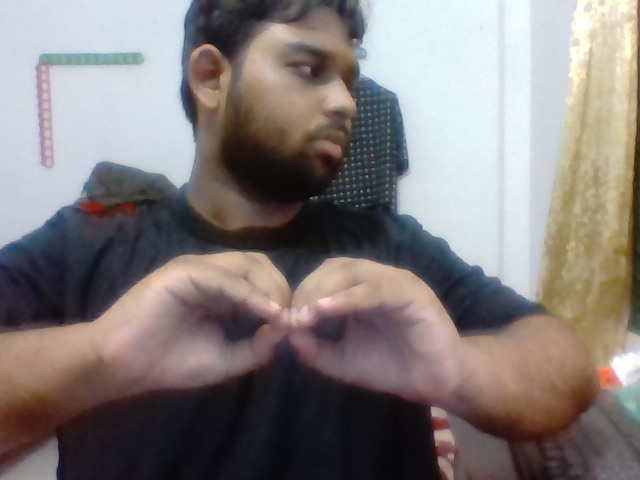B: (104, 249, 471, 413)
